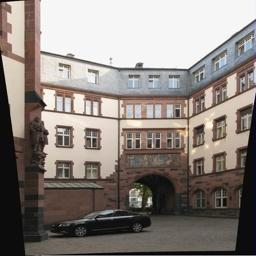building: (42, 17, 256, 217)
